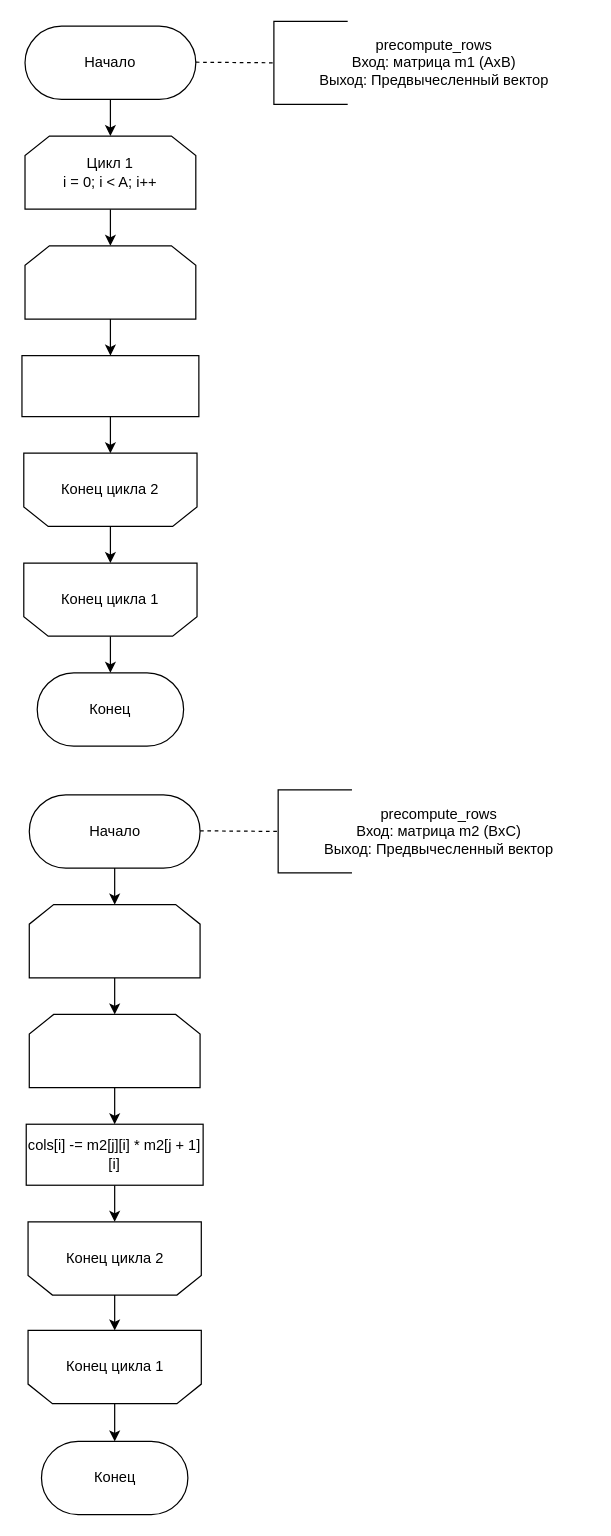
Image size: 611x1536. Some labels were removed from this diagram. Here are the shapes that lost their labels. From the top down, the centre of each, then its label:
At (110,282): "Цикл 2 j = 0; j < (B/2 -1); j++".
At (110,385): "rows[i] = rows[i] + m1[i][2*j] * m1[i][2*j + 1]".
At (114,940): "Цикл 1 i = 1; i <=C; i = i+1".
At (114,1050): "Цикл 2 j = 1; j <=B; j = j+2".
